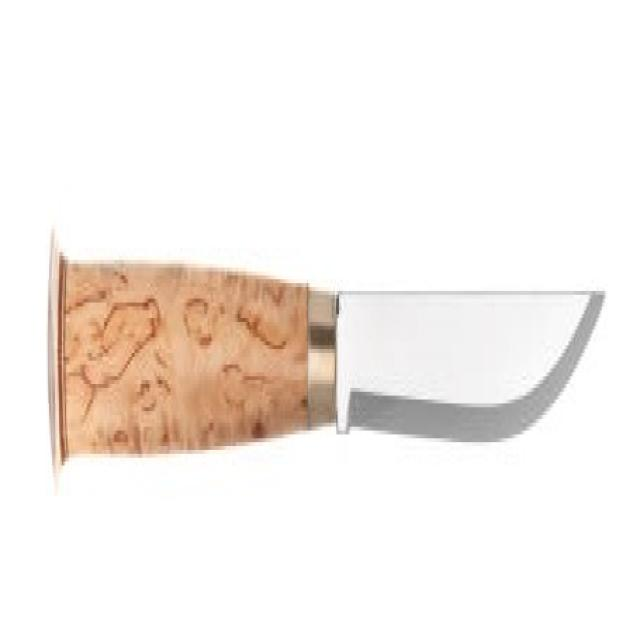knife: (43, 224, 608, 500)
